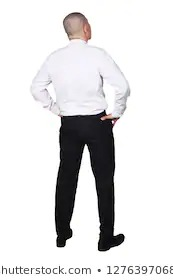F_dress pants: (52, 111, 121, 240)
F_shirt: (28, 36, 135, 115)
